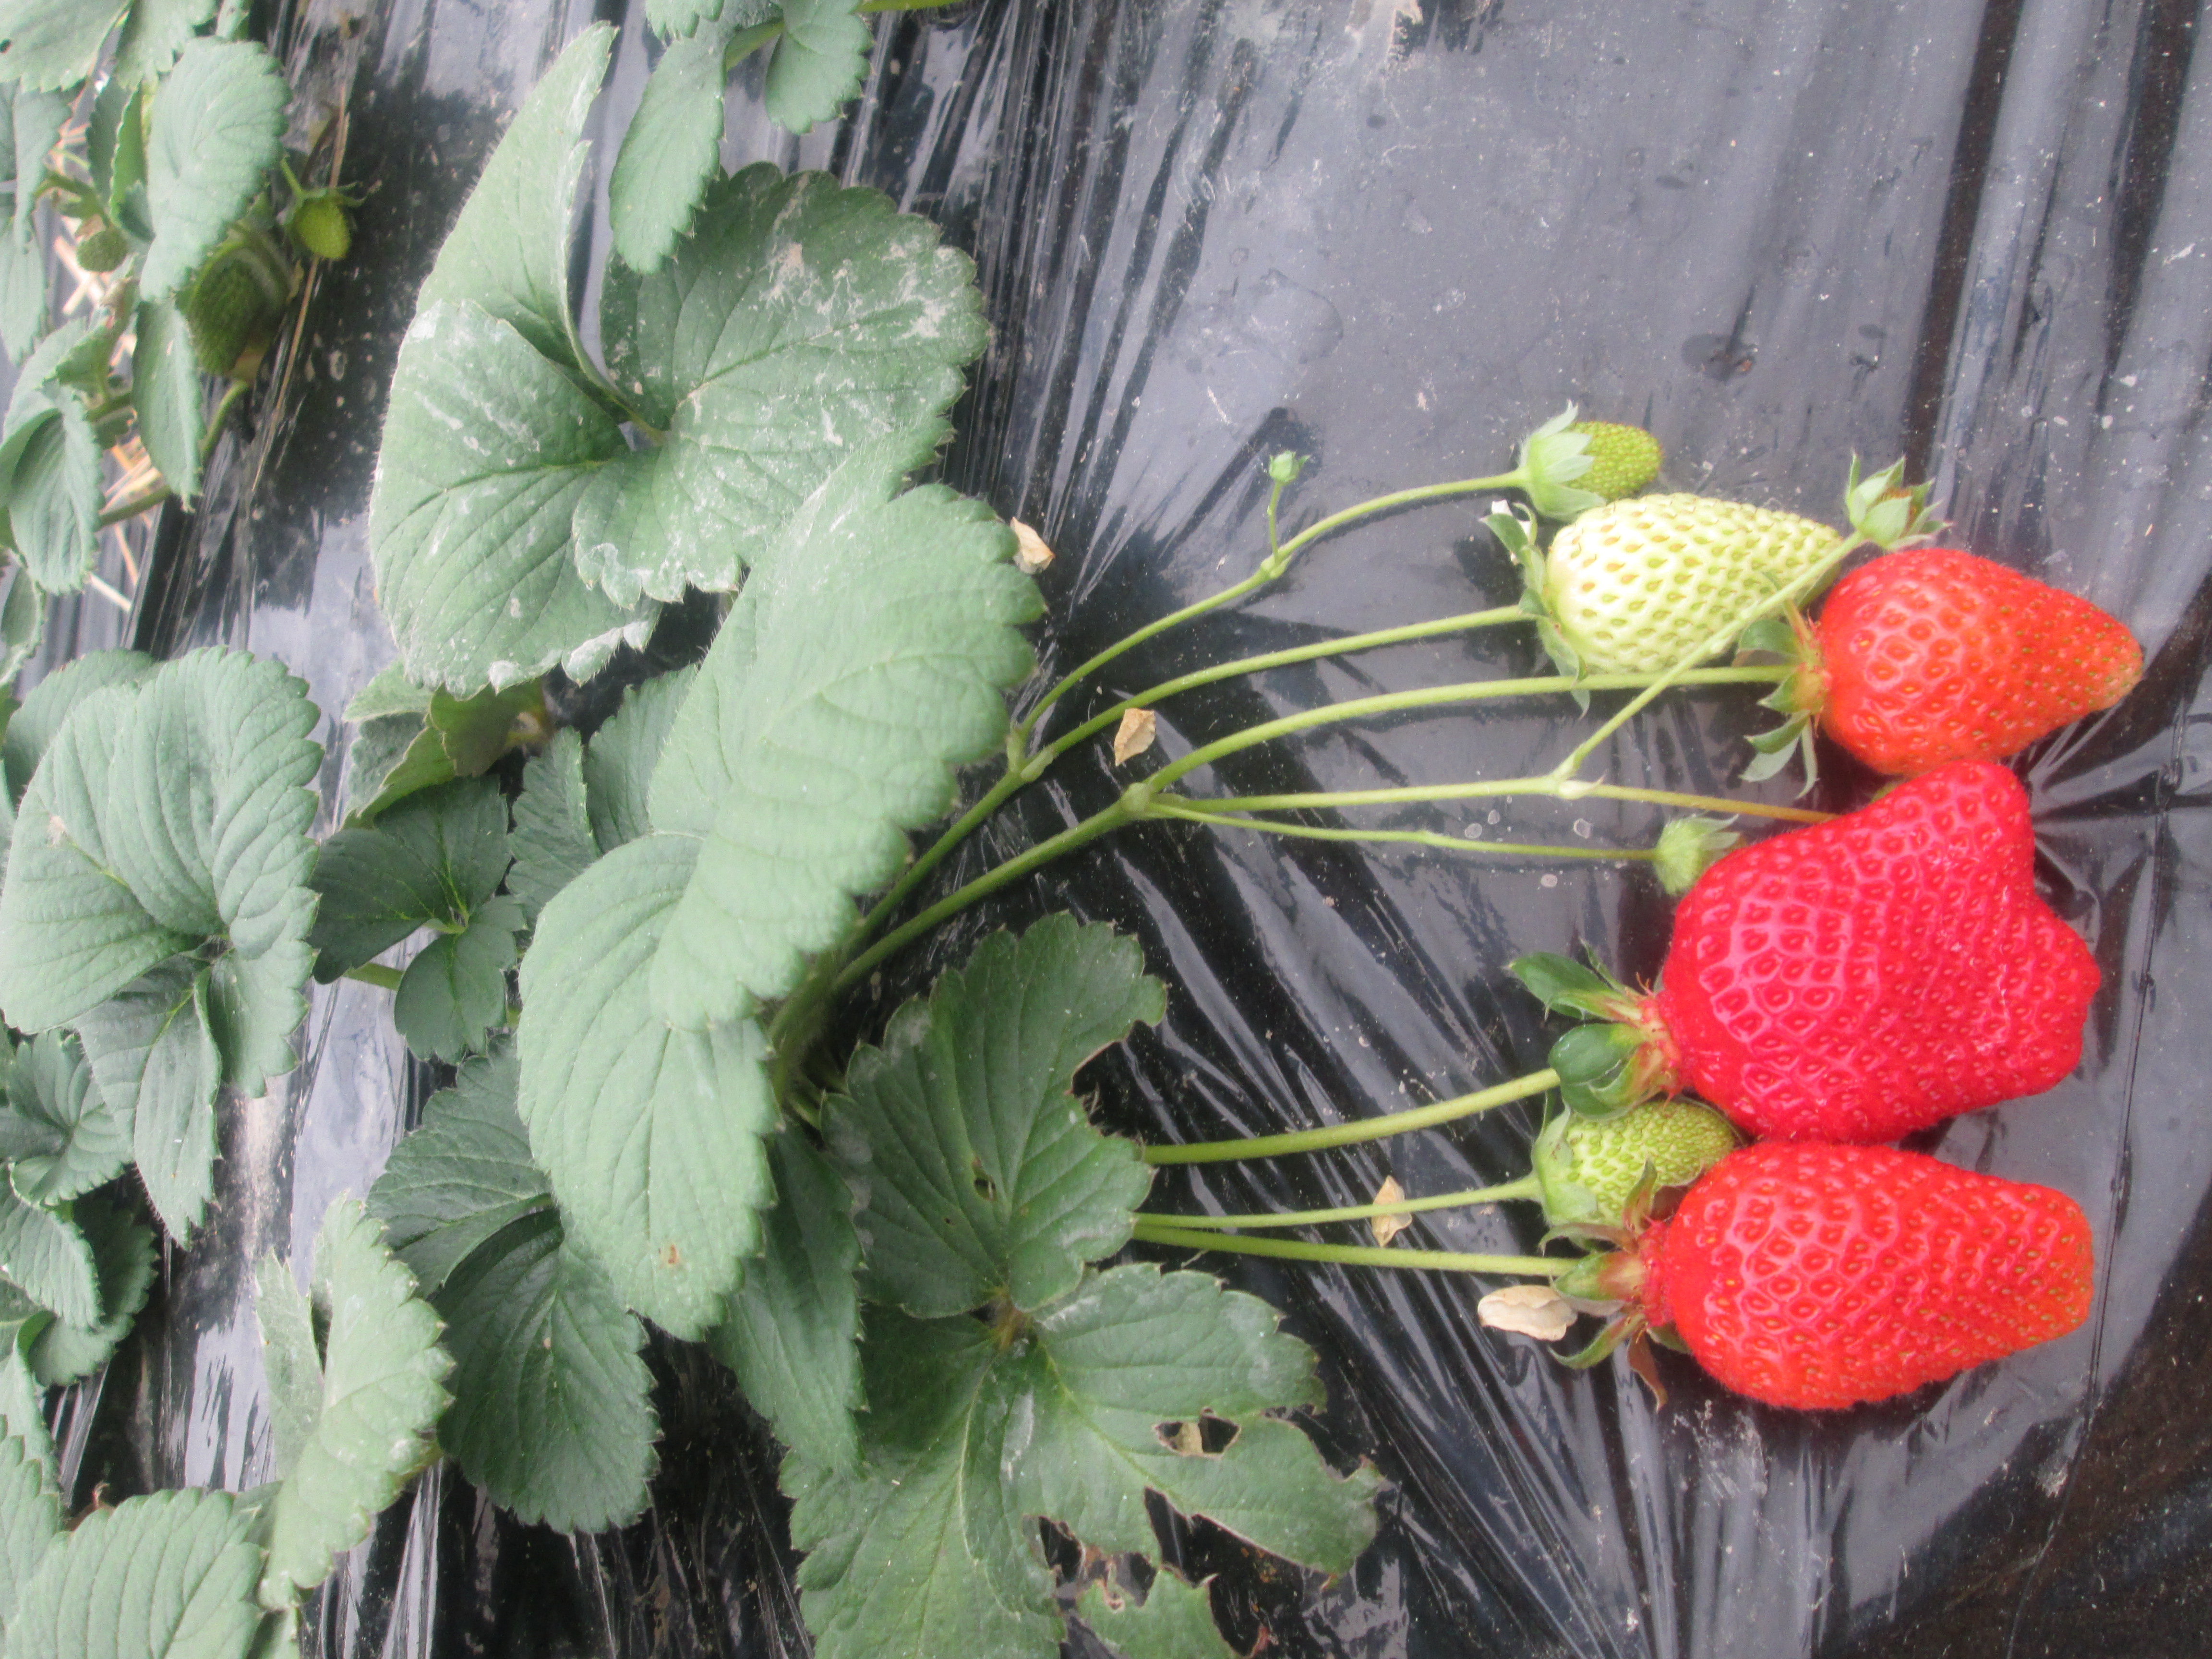StrawberryIrremovable: (1536, 490, 1839, 681), (1534, 1105, 1738, 1237), (1515, 413, 1676, 516), (171, 256, 282, 380), (1834, 462, 1942, 556), (273, 183, 362, 272), (64, 220, 138, 277)
StrawberryRemovable: (1637, 762, 2113, 1145), (1632, 1136, 2113, 1412), (1806, 547, 2144, 781)
StrawberryWedge: (1627, 756, 2116, 1140), (1627, 1143, 2113, 1413), (1803, 545, 2148, 789)
